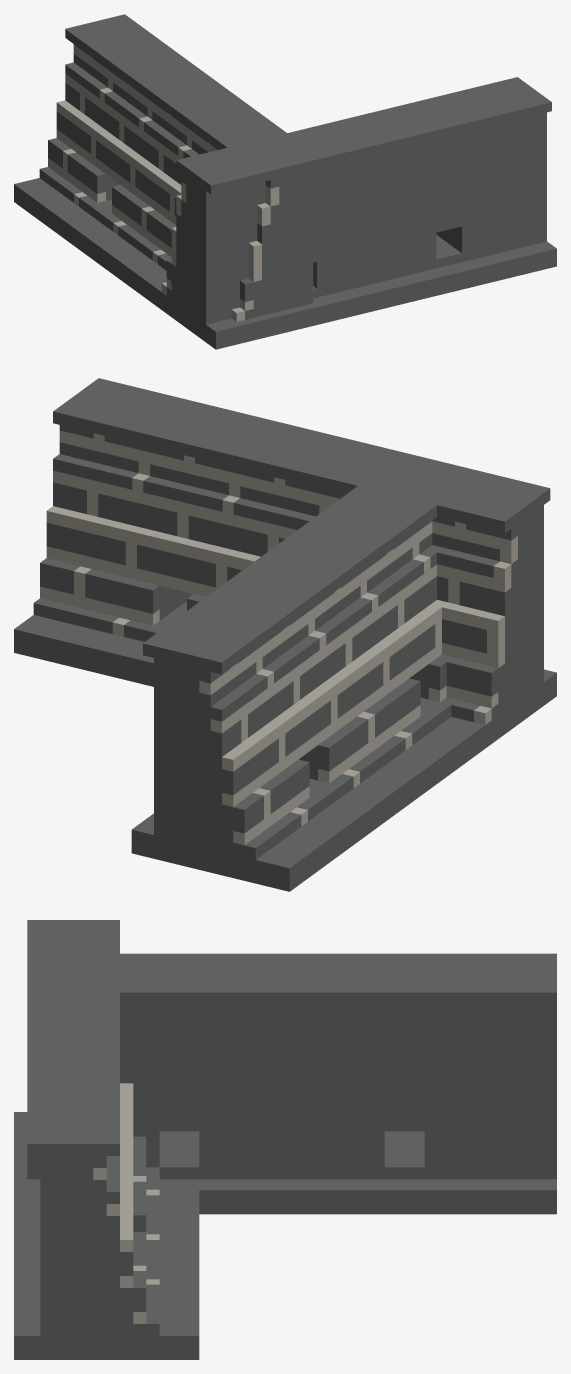
File: visual-far.glb
3 renders of one model, top to bottom at view 1: azimuth 30°, elevation 25°; view 2: azimuth 150°, elevation 25°; view 3: azimuth 270°, elevation 25°, orthographic. The views are drawn at different scales.
Visible parts, largest first — view 1: 挡墙转角高差与端头族; view 2: 挡墙转角高差与端头族; view 3: 挡墙转角高差与端头族.
Part boxes in pixels (x1,y1,x2,y2): 挡墙转角高差与端头族: [14, 14, 556, 349]; 挡墙转角高差与端头族: [14, 378, 556, 891]; 挡墙转角高差与端头族: [14, 920, 556, 1359].
Bounding box in the file's own units: 8 × 3.6 × 8.2.
Materials: 2 (2 with a texture image).
